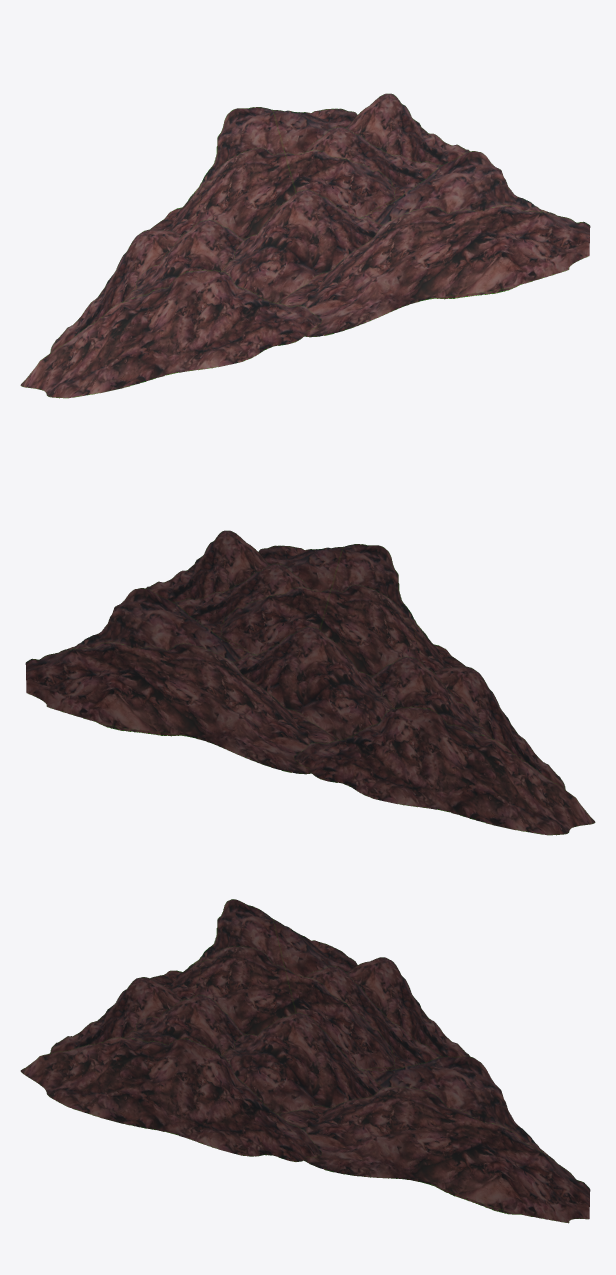
The model's file is distant_pig_pile_1.fbx.
3 renders of one model, top to bottom at view 1: azimuth 30°, elevation 25°; view 2: azimuth 150°, elevation 25°; view 3: azimuth 330°, elevation 25°, orthographic.
Visible parts, largest first — view 1: distant_pig_pile_01; view 2: distant_pig_pile_01; view 3: distant_pig_pile_01.
Part boxes in pixels (x1,y1,x2,y2): distant_pig_pile_01: [20, 93, 590, 398]; distant_pig_pile_01: [25, 530, 595, 835]; distant_pig_pile_01: [20, 899, 590, 1223].
Bounding box in the file's own units: 848 × 389 × 0.000194.
